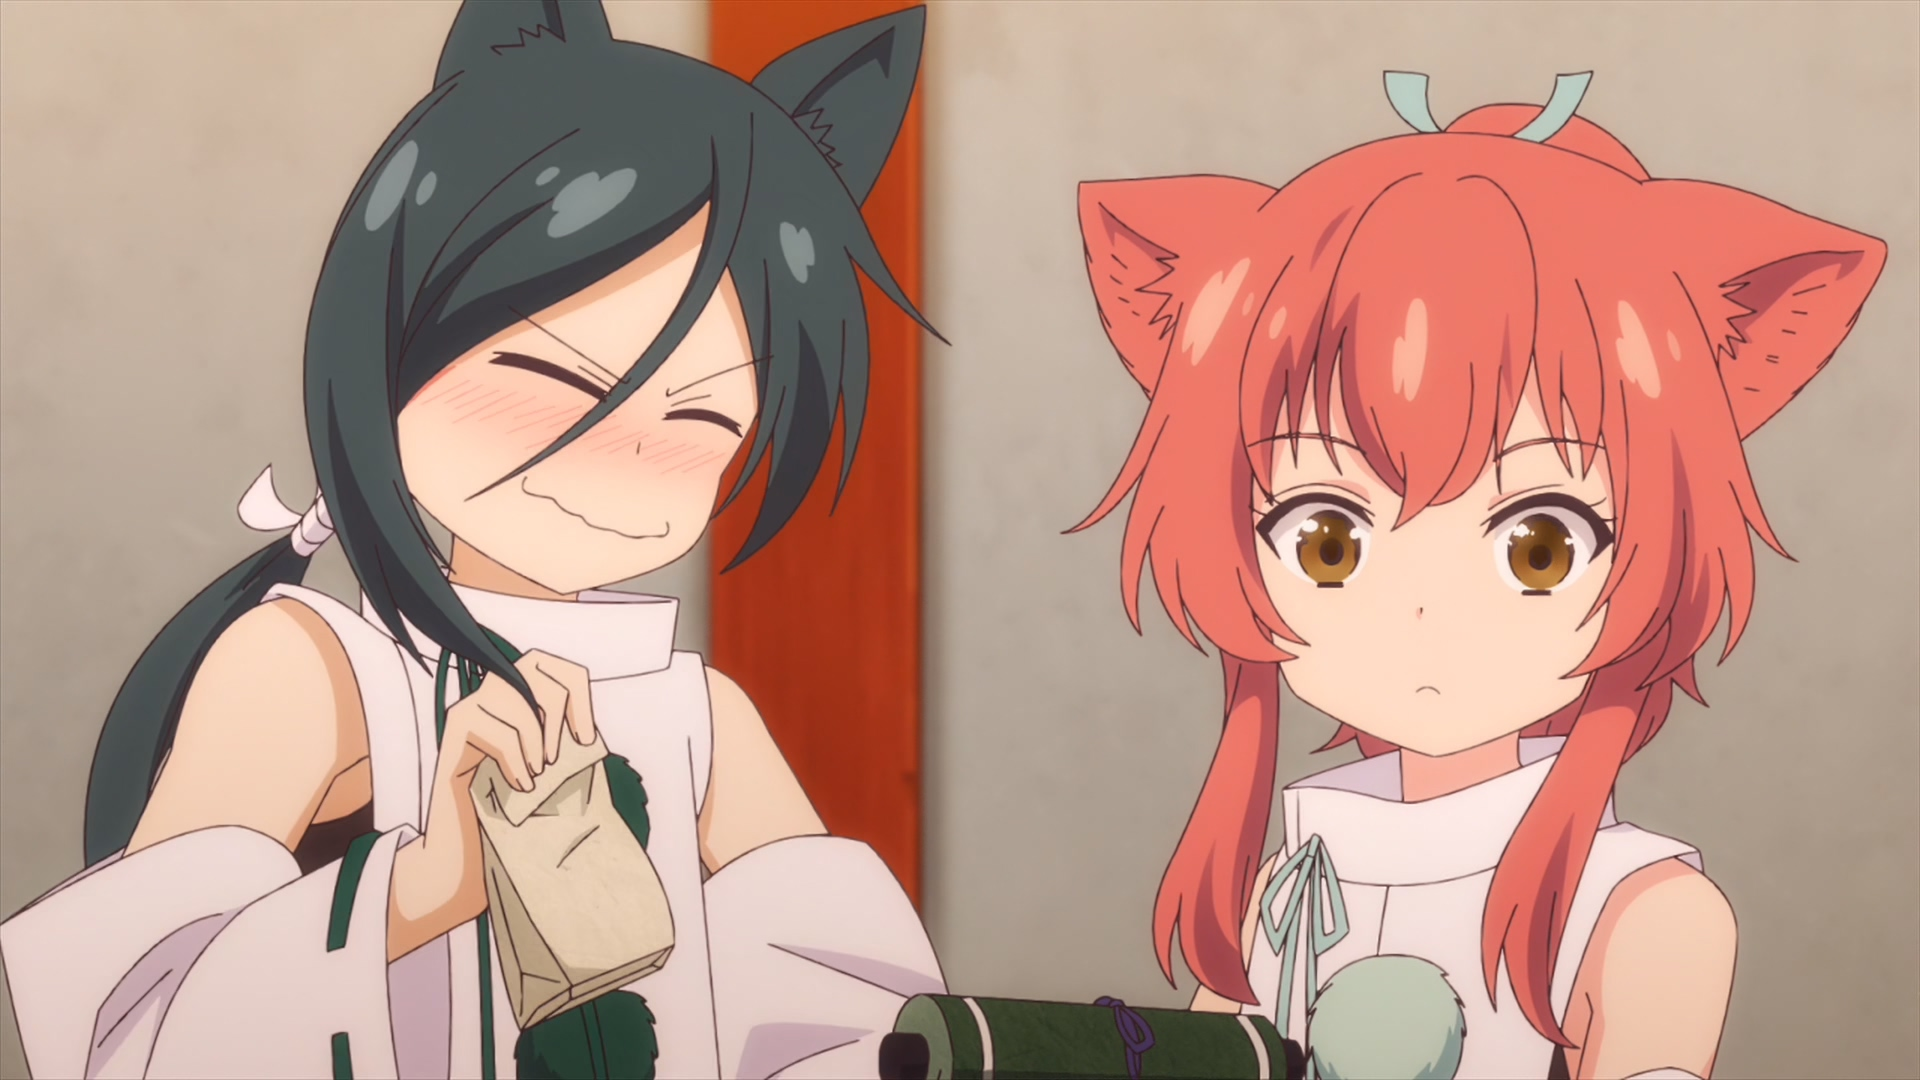其他: (1, 1, 952, 1080)
椿: (1059, 71, 1891, 1080)
